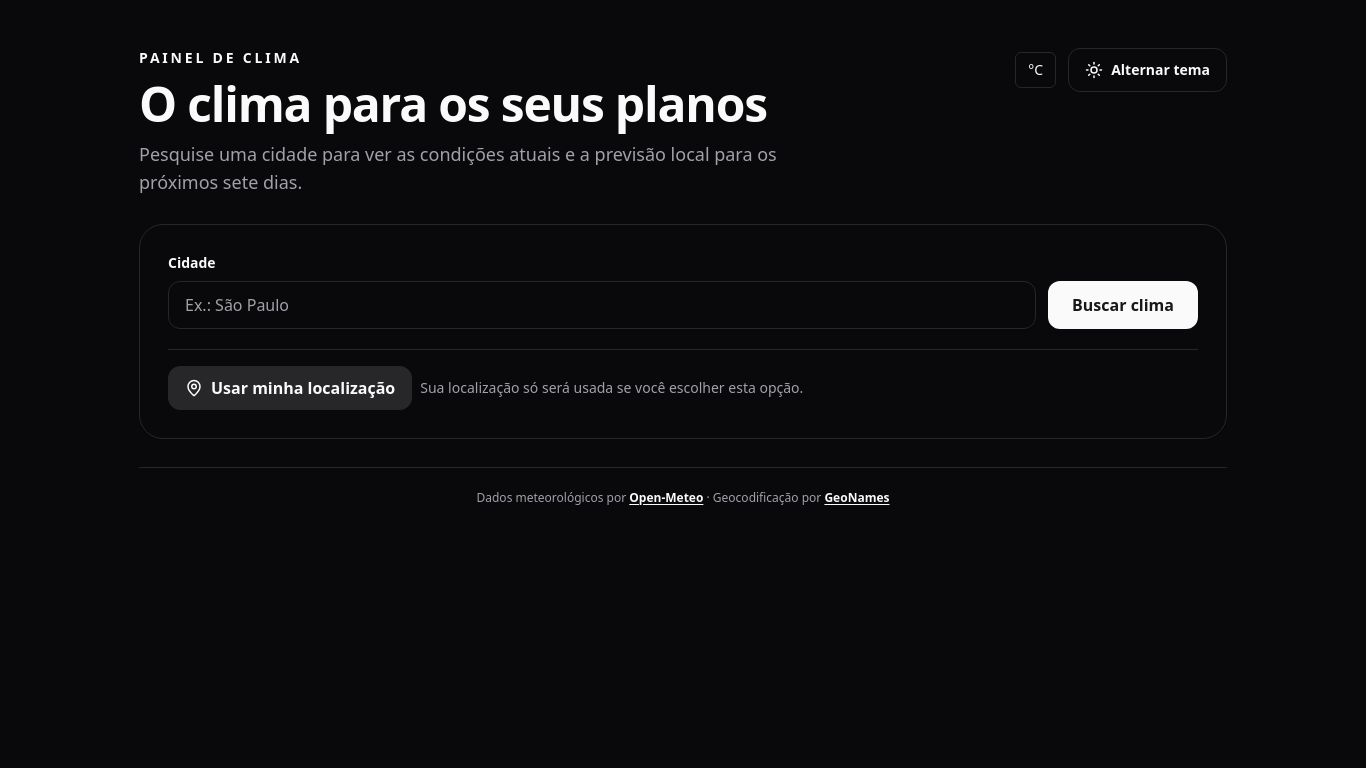
Test: WeatherView city search › searches the backend, distinguishes homonyms and renders the selected city forecast
The width and height of the screenshot is (1366, 768).
Type "Paris" into the field labelled "Cidade" at (602, 305), box [168,281,1036,329]
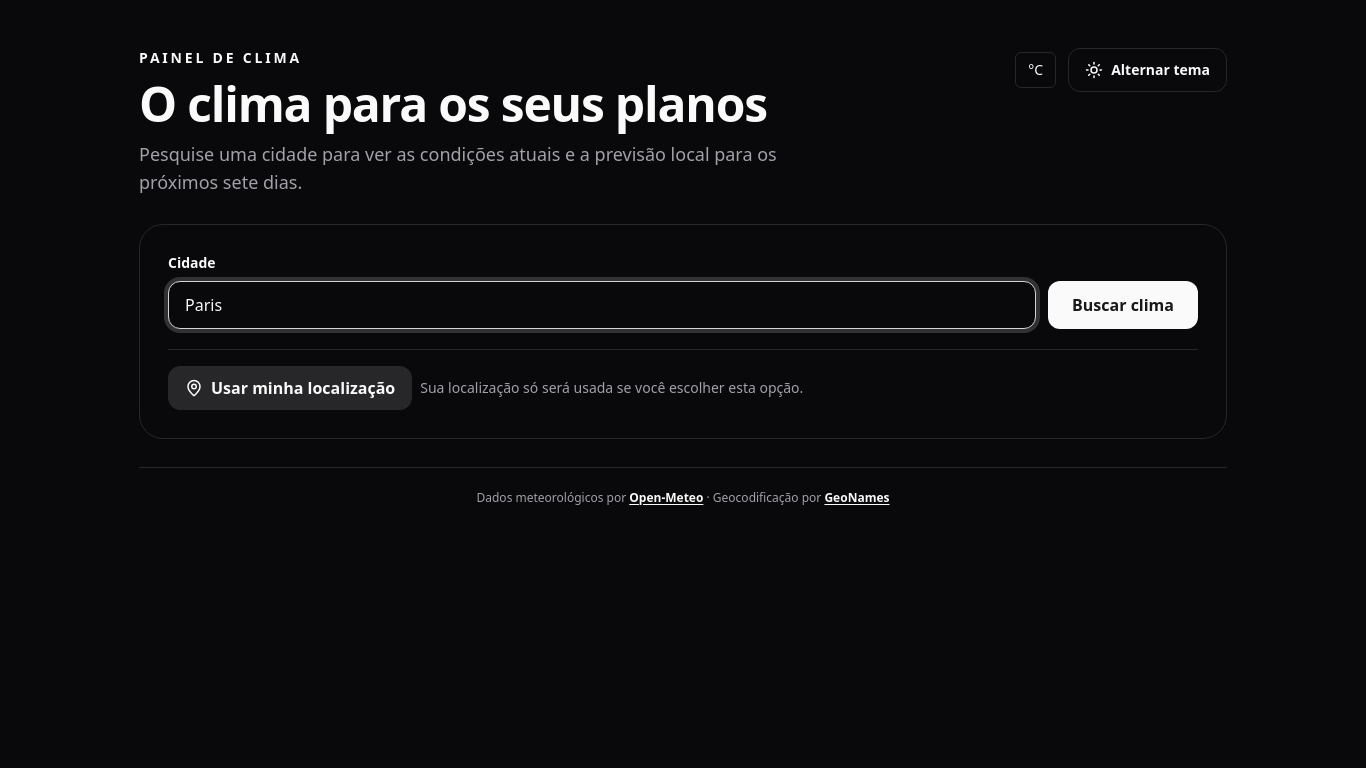
Press Enter
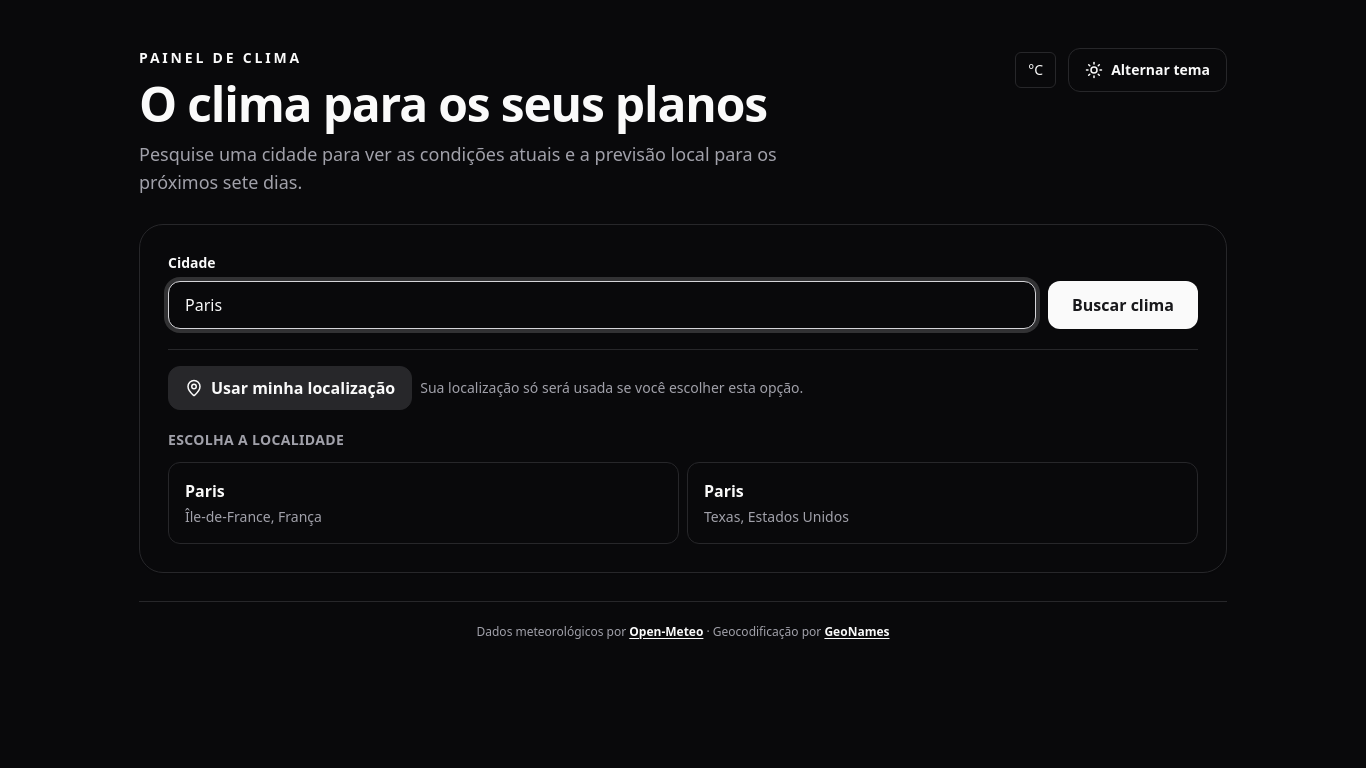
Click the button with aria-label "Consultar clima para Paris, Texas, Estados Unidos" at (724, 491), box [687,462,1198,544]
(page scrolled)
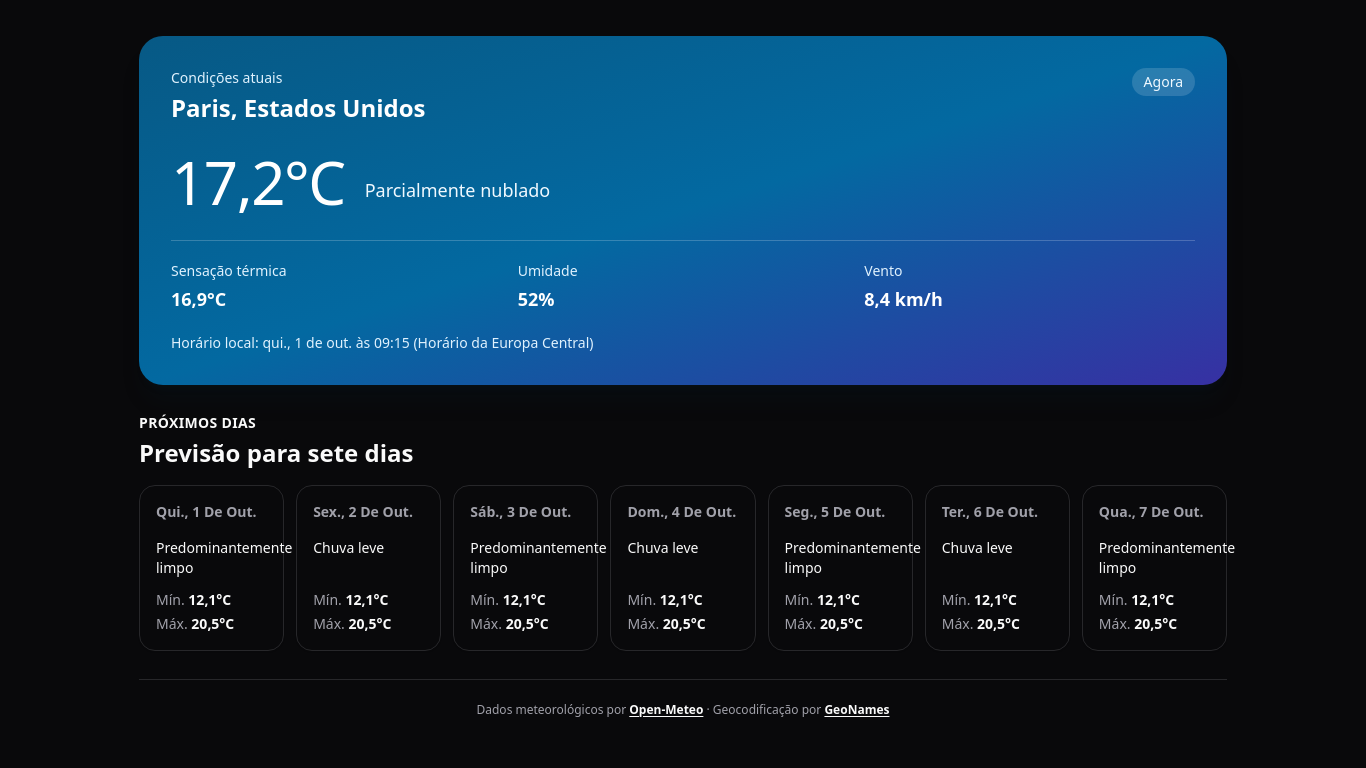
Check: the heading "Paris, Estados Unidos" is shown, box [171,92,426,124]
Check: the text "Parcialmente nublado" is shown, box [365,176,550,212]
Check: the text "17,2°C" is shown, box [171,152,345,212]
